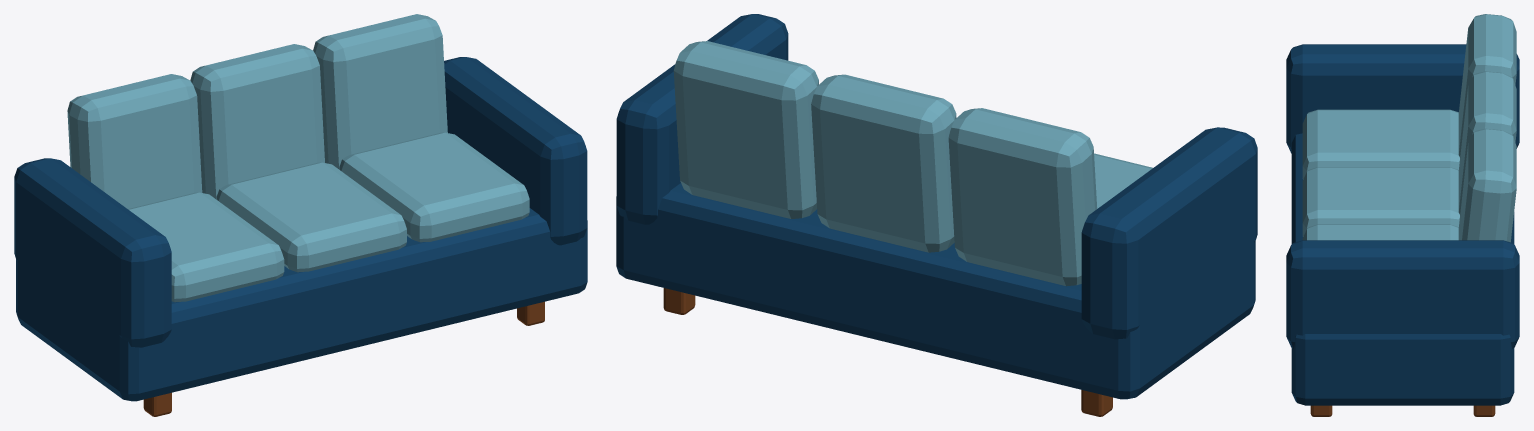
The model's file is edited.glb.
3 renders of one model, left to right at view 1: azimuth 30°, elevation 25°; view 2: azimuth 150°, elevation 25°; view 3: azimuth 270°, elevation 25°, orthographic. The views are drawn at different scales.
Visible parts, largest first — view 1: FRAME_Base, ARM.001, BACK_Cushion.002, BACK_Cushion, BACK_Cushion.001, ARM, SEAT_Cushion.002, SEAT_Cushion.001, SEAT_Cushion, FOOT, FOOT.002; view 2: FRAME_Base, ARM.001, BACK_Cushion.002, BACK_Cushion, BACK_Cushion.001, ARM, SEAT_Cushion, FOOT.003, FOOT.001; view 3: ARM, FRAME_Base, ARM.001, SEAT_Cushion, SEAT_Cushion.001, BACK_Cushion, BACK_Cushion.001, BACK_Cushion.002, SEAT_Cushion.002, FOOT.002, FOOT.003.
Part boxes in pixels (<box>): FRAME_Base: <box>16,208,587,401</box>; ARM.001: <box>14,158,171,347</box>; BACK_Cushion.002: <box>190,44,324,199</box>; BACK_Cushion: <box>313,14,447,169</box>; BACK_Cushion.001: <box>67,74,202,208</box>; ARM: <box>444,57,587,245</box>; SEAT_Cushion.002: <box>339,132,529,242</box>; SEAT_Cushion.001: <box>216,162,406,272</box>; SEAT_Cushion: <box>128,192,284,302</box>; FOOT: <box>143,392,171,416</box>; FOOT.002: <box>517,301,544,325</box>; FRAME_Base: <box>616,183,1255,399</box>; ARM.001: <box>1081,127,1257,339</box>; BACK_Cushion.002: <box>811,74,956,252</box>; BACK_Cushion: <box>673,41,818,218</box>; BACK_Cushion.001: <box>948,108,1097,286</box>; ARM: <box>616,14,788,224</box>; SEAT_Cushion: <box>1094,153,1152,208</box>; FOOT.003: <box>663,288,695,314</box>; FOOT.001: <box>1081,390,1112,416</box>; ARM: <box>1286,240,1519,348</box>; FRAME_Base: <box>1291,133,1514,405</box>; ARM.001: <box>1286,44,1519,153</box>; SEAT_Cushion: <box>1302,109,1459,179</box>; SEAT_Cushion.001: <box>1302,167,1459,236</box>; BACK_Cushion: <box>1458,128,1516,242</box>; BACK_Cushion.001: <box>1458,14,1516,157</box>; BACK_Cushion.002: <box>1458,71,1516,214</box>; SEAT_Cushion.002: <box>1302,224,1458,240</box>; FOOT.002: <box>1310,405,1332,416</box>; FOOT.003: <box>1473,405,1495,416</box>.
Size of the model in its own units: 1.9 by 0.9517 by 0.86.
